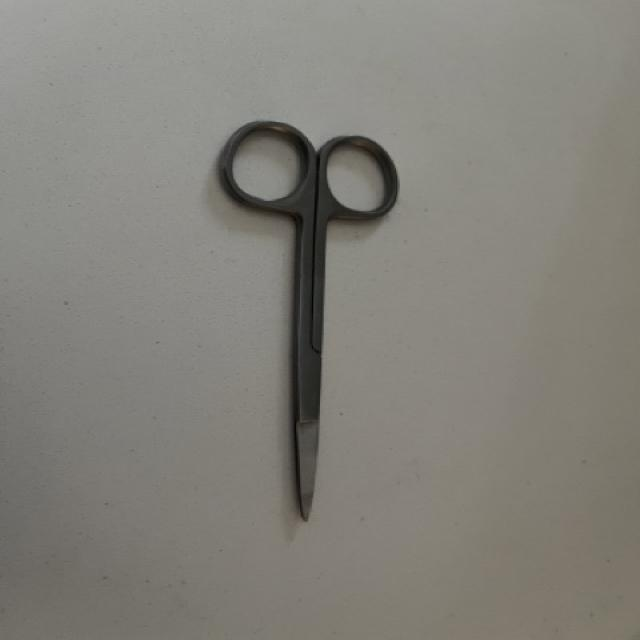Gunting: (201, 114, 415, 536)
